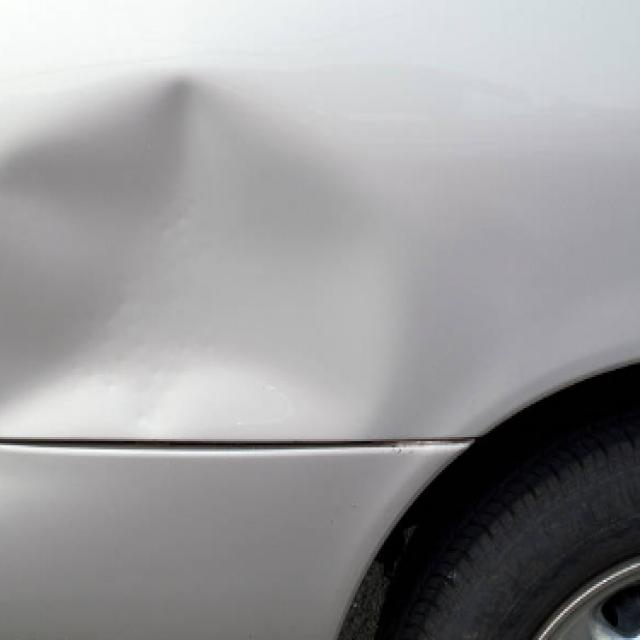dents: (1, 40, 401, 427)
